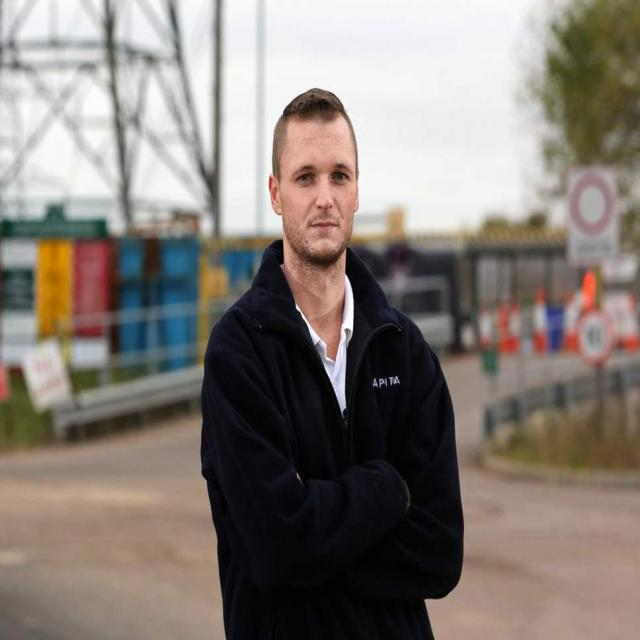human: (191, 91, 468, 640)
